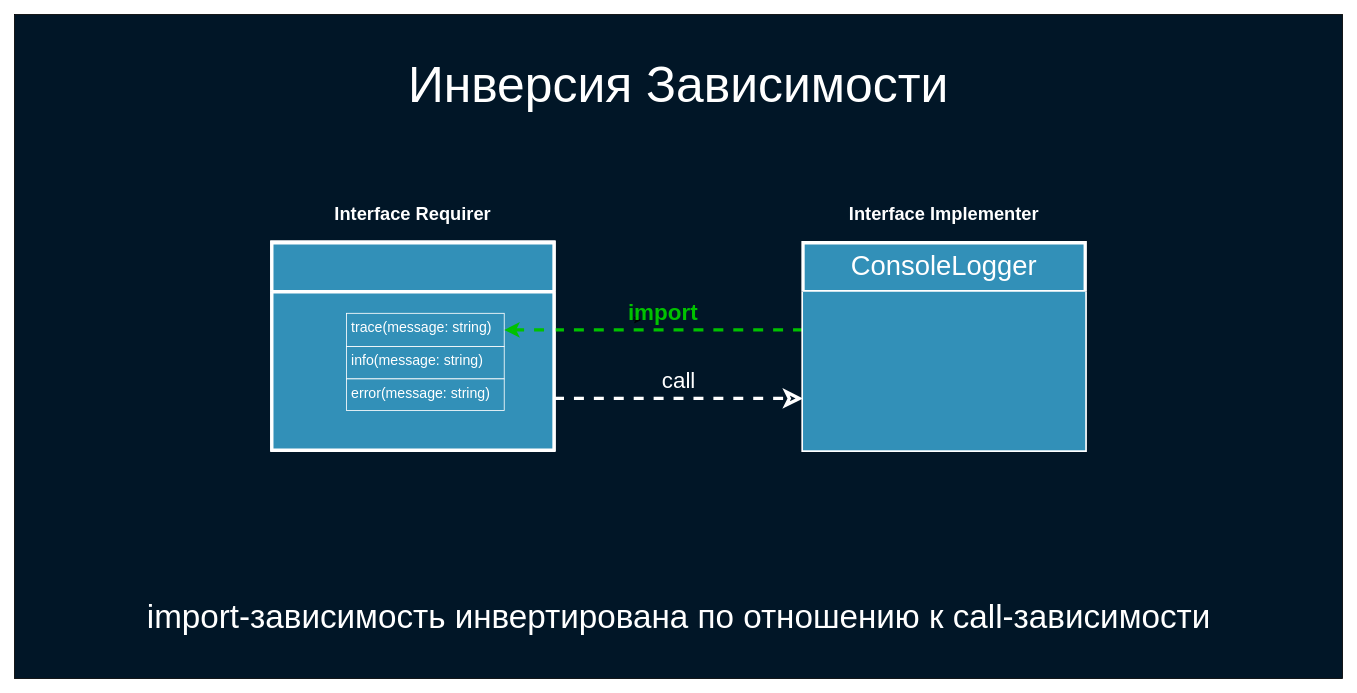
The diagram is 1357 pixels wide and 693 high, and some of its shapes have lost their labels. Each missing label, with the centre of its shape:
CounterInteractor: [412,346]
trace(message: string) info(message: string) error(message: string): [944,370]
